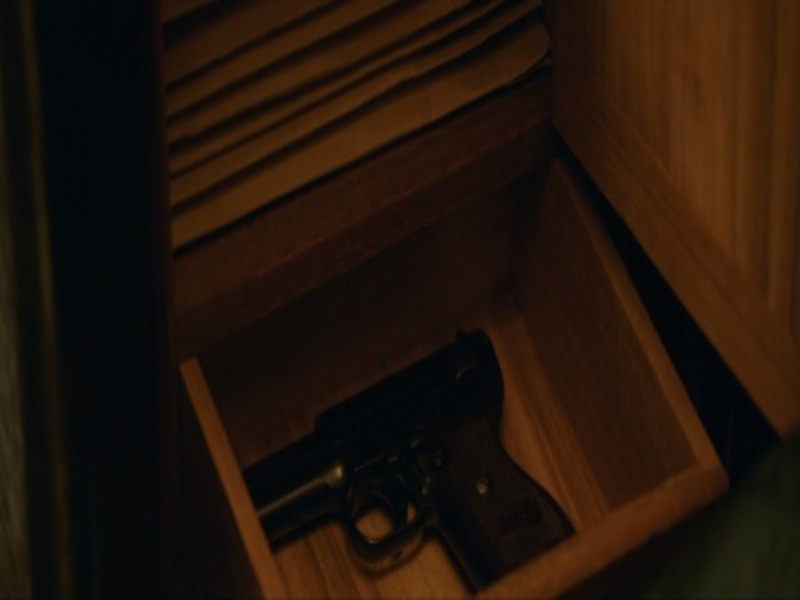weapon: (239, 332, 580, 592)
